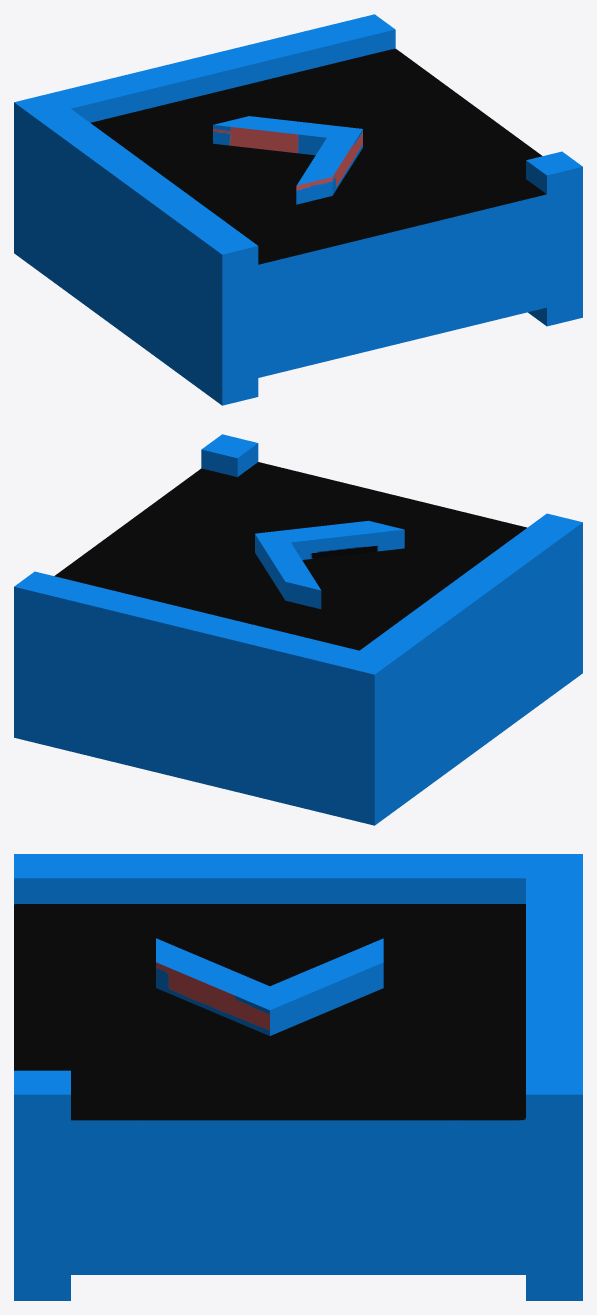
File: conveyor 3.fbx
3 views of the same model, one above another, from view 1: azimuth 30°, elevation 25°; view 2: azimuth 150°, elevation 25°; view 3: azimuth 270°, elevation 25° (orthographic). The views are drawn at different scales.
Parts seen in each view (by area): view 1: Conveyor.003, Arrow.003; view 2: Conveyor.003, Arrow.003; view 3: Conveyor.003, Arrow.003.
Boxes of the visible parts, box(x1,y1,x2,y2) form: Conveyor.003: box(14, 14, 582, 405); Arrow.003: box(213, 116, 362, 204); Conveyor.003: box(14, 434, 582, 825); Arrow.003: box(255, 520, 404, 609); Conveyor.003: box(14, 854, 582, 1300); Arrow.003: box(156, 938, 383, 1035).
Bounding box in the file's own units: 200 × 80 × 200.
